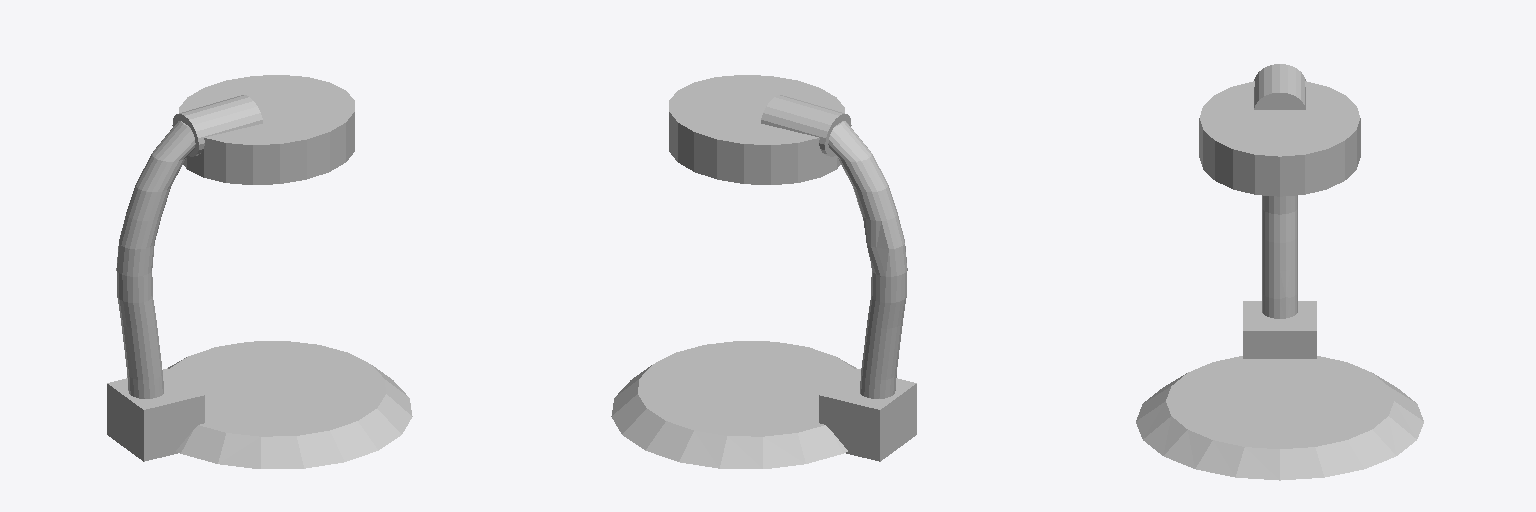
File: InteractableItem_Teleporter_OBJ.obj
The picture shows the model from 3 angles: view 1: azimuth 30°, elevation 25°; view 2: azimuth 150°, elevation 25°; view 3: azimuth 270°, elevation 25°; orthographic projection.
Visible parts, largest first — view 1: pCylinder5; view 2: pCylinder5; view 3: pCylinder5.
Boxes of the visible parts, x1,y1,x2,y2 form: pCylinder5: [107, 75, 412, 468]; pCylinder5: [611, 75, 916, 468]; pCylinder5: [1136, 64, 1423, 480].
Bounding box in the file's own units: 2.78 × 3.1 × 2.53.